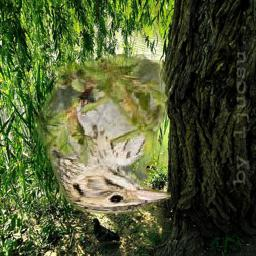Sparrow: (35, 54, 171, 214)
